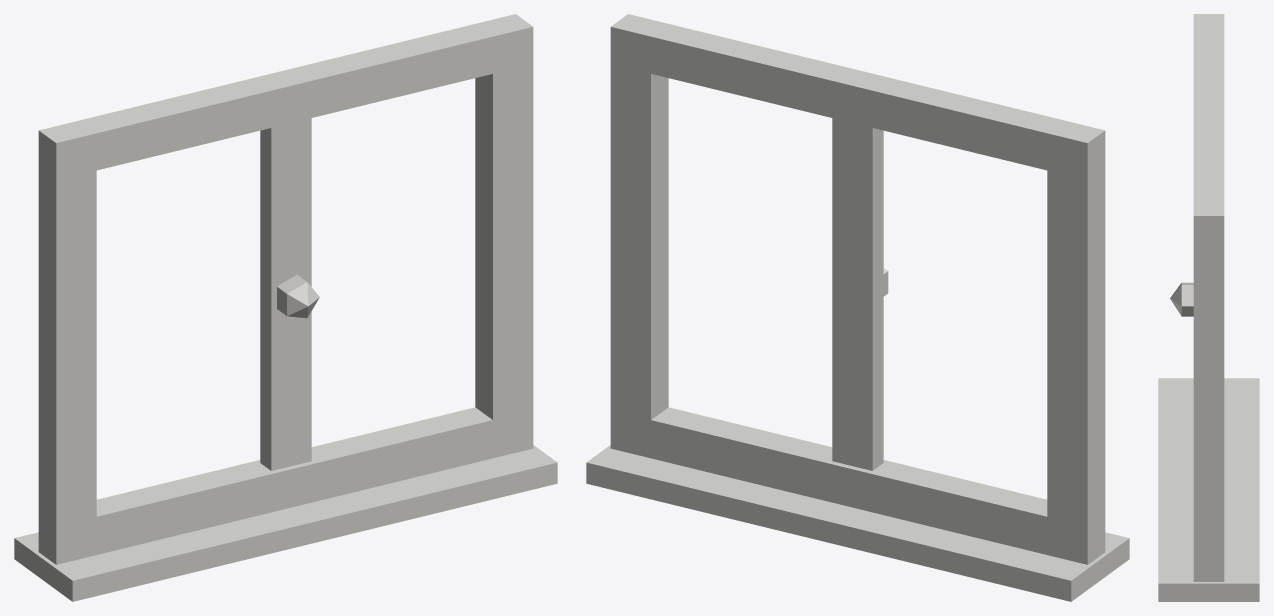
Rendered from Window_1C.fbx.
3 views of the same model, side by side, from view 1: azimuth 30°, elevation 25°; view 2: azimuth 150°, elevation 25°; view 3: azimuth 270°, elevation 25° (orthographic). The views are drawn at different scales.
Parts seen in each view (by area): view 1: polySurface1618; view 2: polySurface1618; view 3: polySurface1618.
Part boxes in pixels (x1=…): polySurface1618: x1=14, y1=14, x2=557, y2=601; polySurface1618: x1=586, y1=14, x2=1129, y2=601; polySurface1618: x1=1158, y1=14, x2=1259, y2=601.
Size of the model in its own units: 2.4 by 2.09 by 0.5.
1 material, 1 textured.
